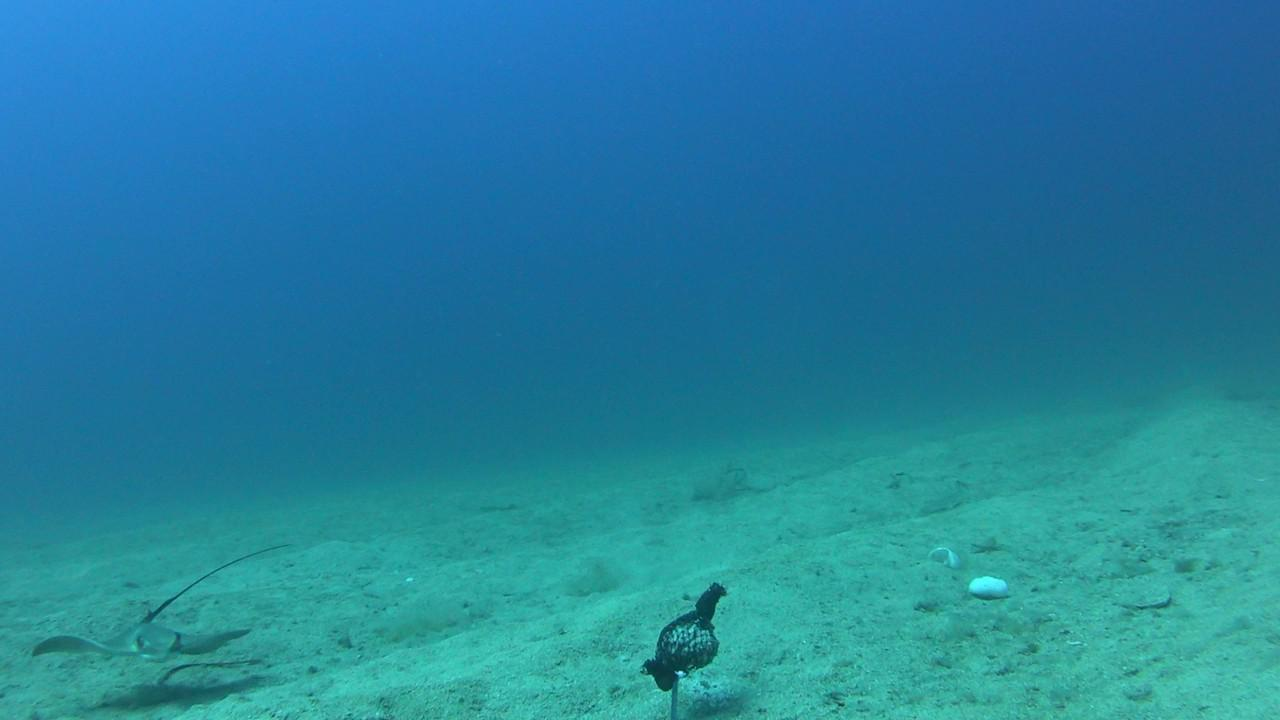myliobatis: (21, 528, 338, 674)
